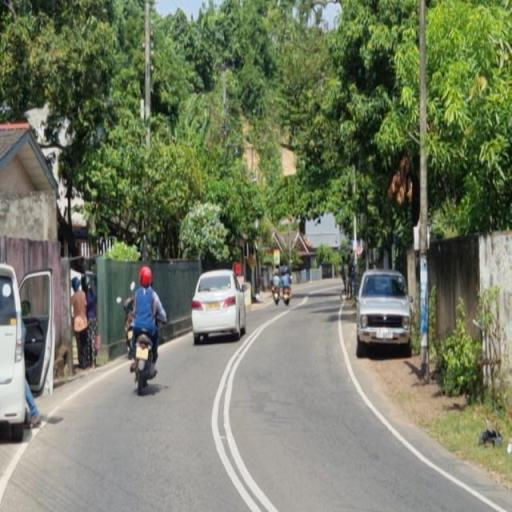double_white_line: (211, 302, 276, 512)
